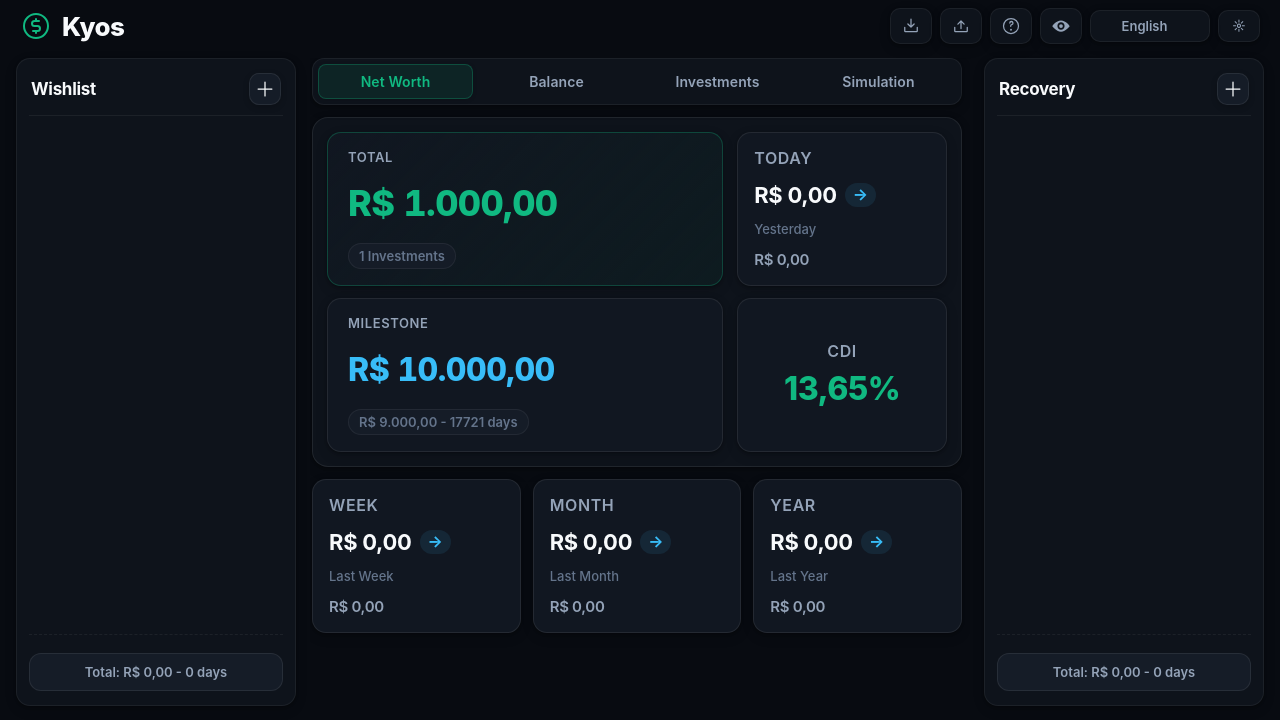
edits an individual asset name, yield rate, and invested amount
Step 1. Click the button "Investments" → (718,82), box 640,64 -> 795,99
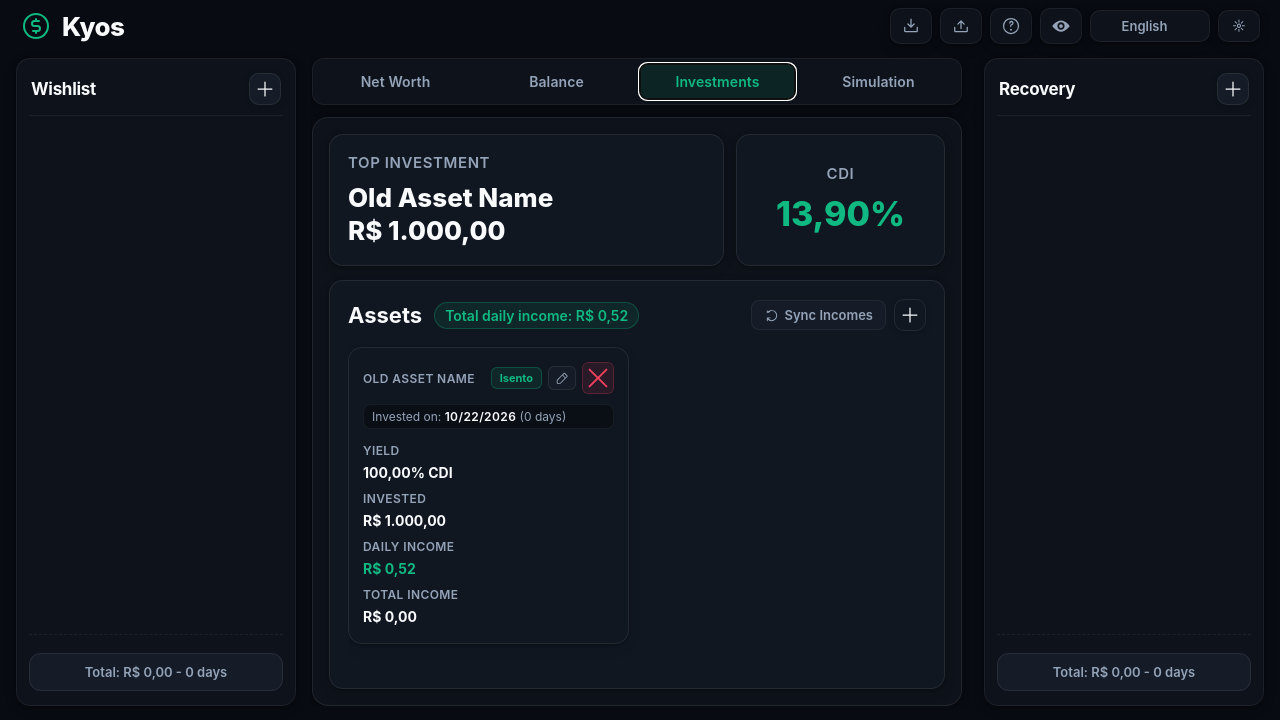
Now the text "Old Asset Name" is shown, box 363,370 -> 475,386
Click edit button
Step 2. Click the button named "edit old asset name" → (562,378), box 548,366 -> 576,390
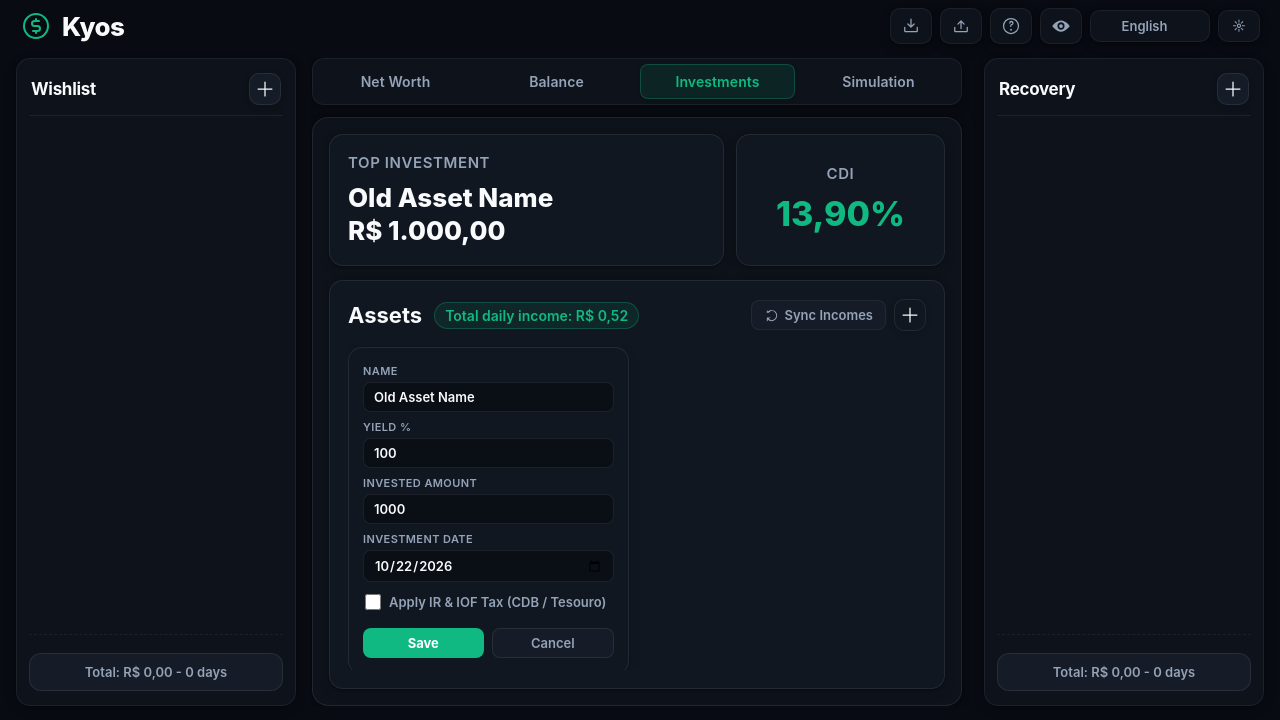
Form should be visible
Step 3. Replace the text in the field showing "Old Asset Name" with "Updated Asset Name" → (488,397), box 363,382 -> 614,412
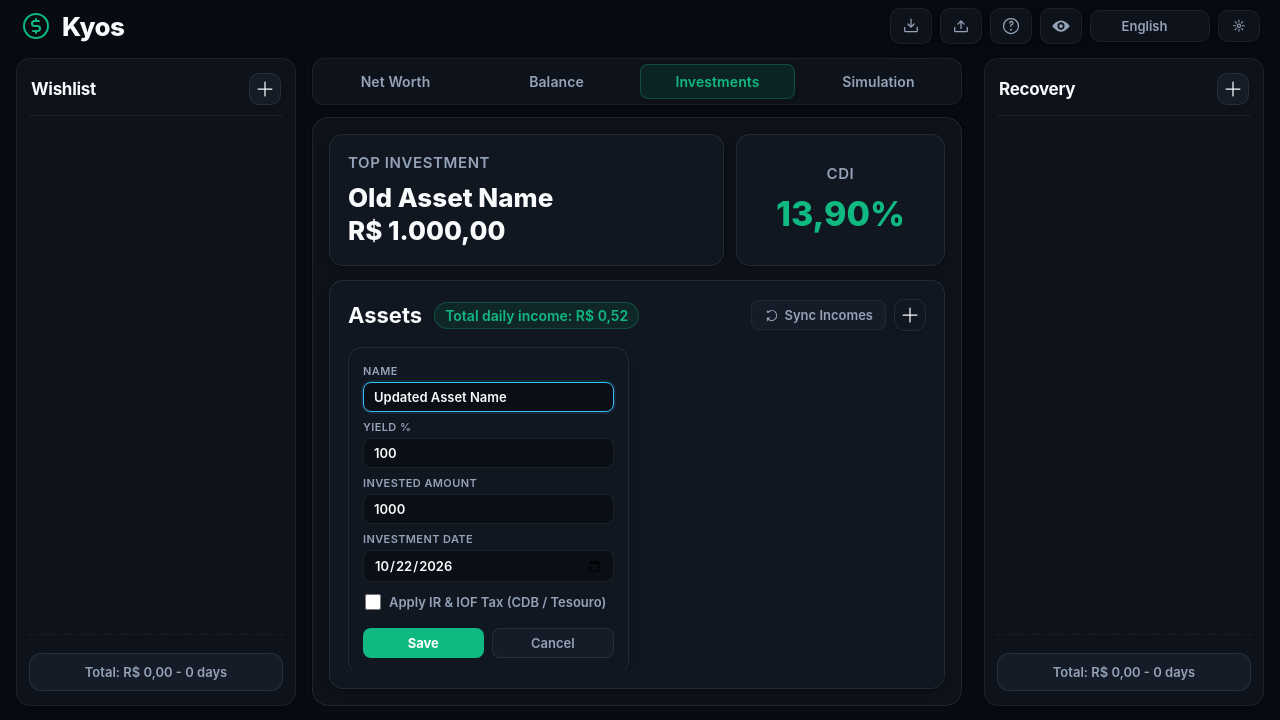
Step 4. Click the button "Save" → (423,643), box 363,628 -> 484,658
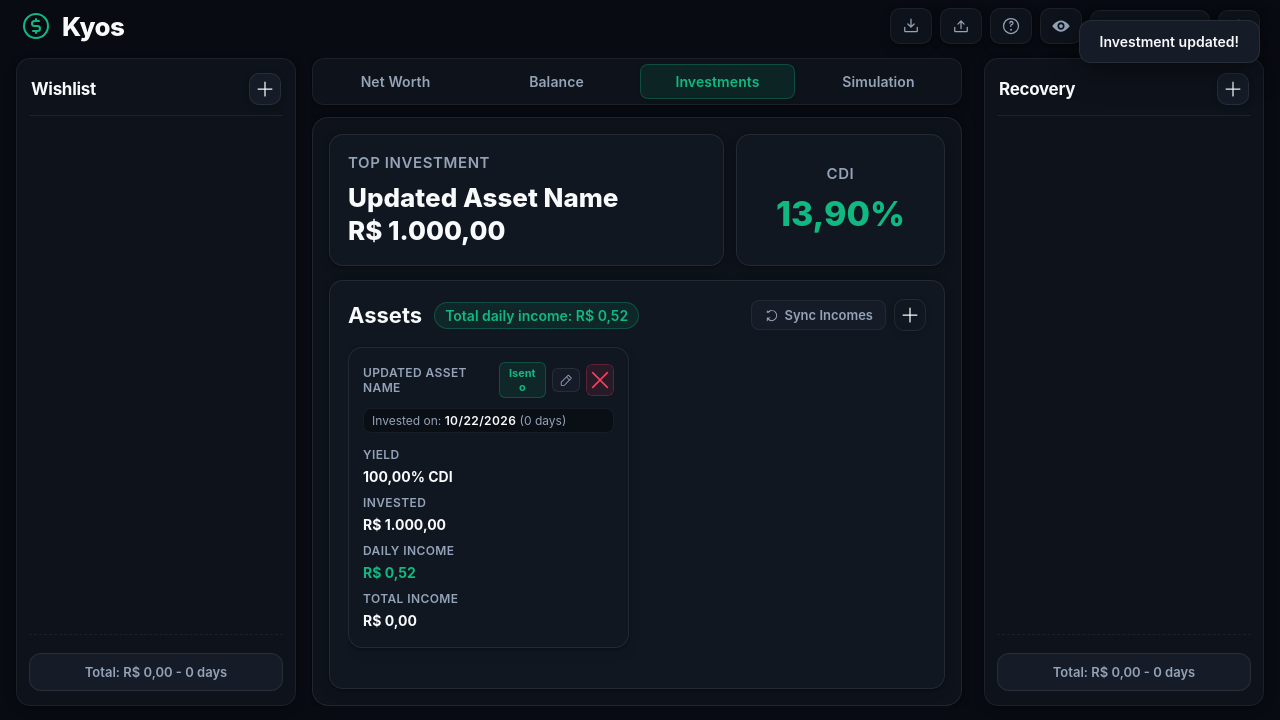
Now the text "Updated Asset Name" is shown, box 363,365 -> 467,395
Now the text "Old Asset Name" is gone
